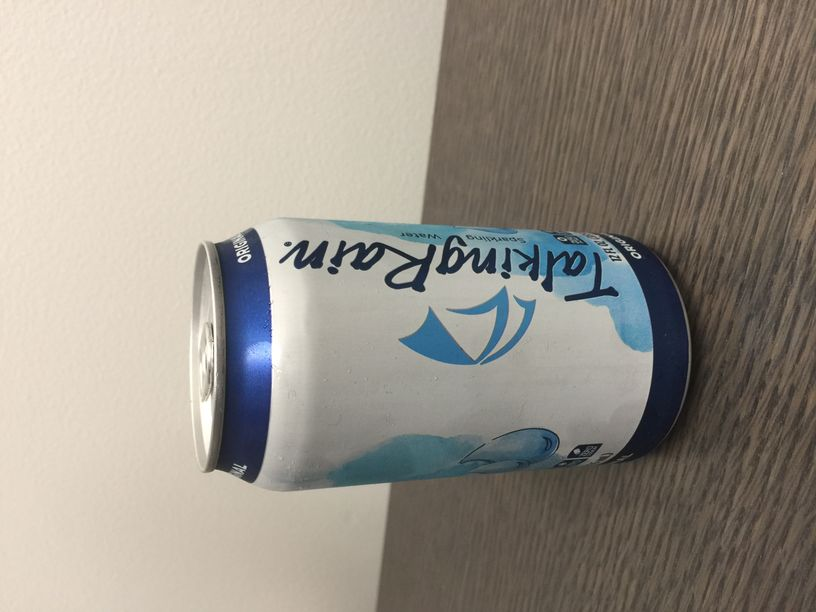competitor_02: (273, 232, 634, 465)
